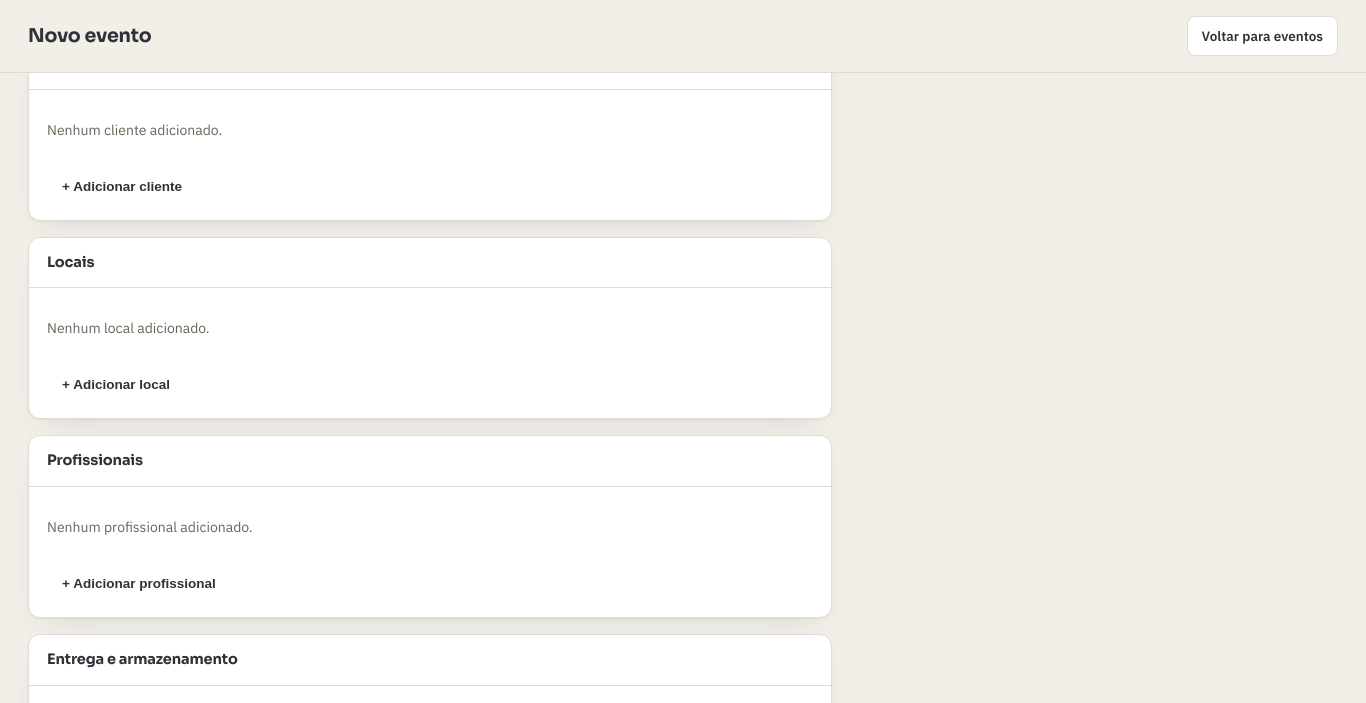
EventFormPage - vários locais por evento (GDE-51) › começa sem locais e permite adicionar e remover linhas
(page scrolled)
expect the text "Nenhum local adicionado." is shown: met, box x1=47 y1=319 x2=210 y2=337
Click the button "+ Adicionar local" at [116, 385], box x1=47 y1=367 x2=185 y2=402
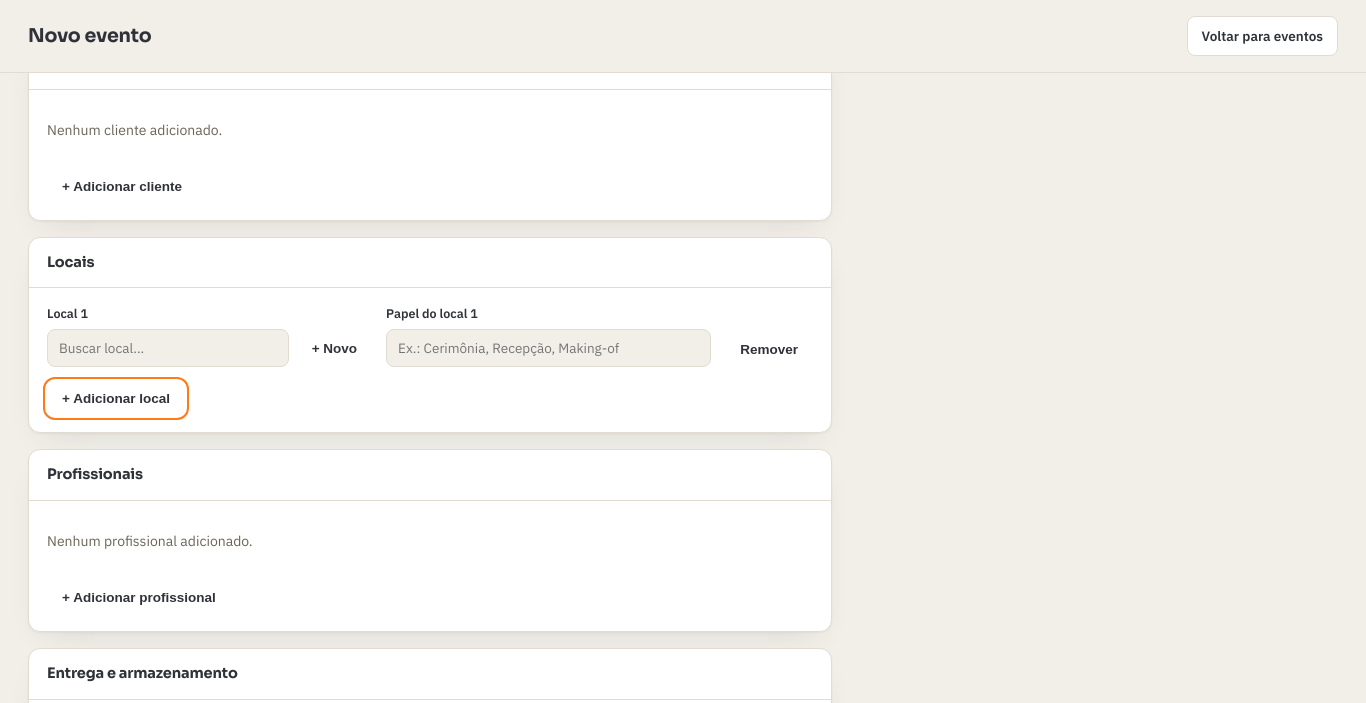
Click the button "+ Adicionar local" at [116, 398], box x1=47 y1=381 x2=185 y2=416
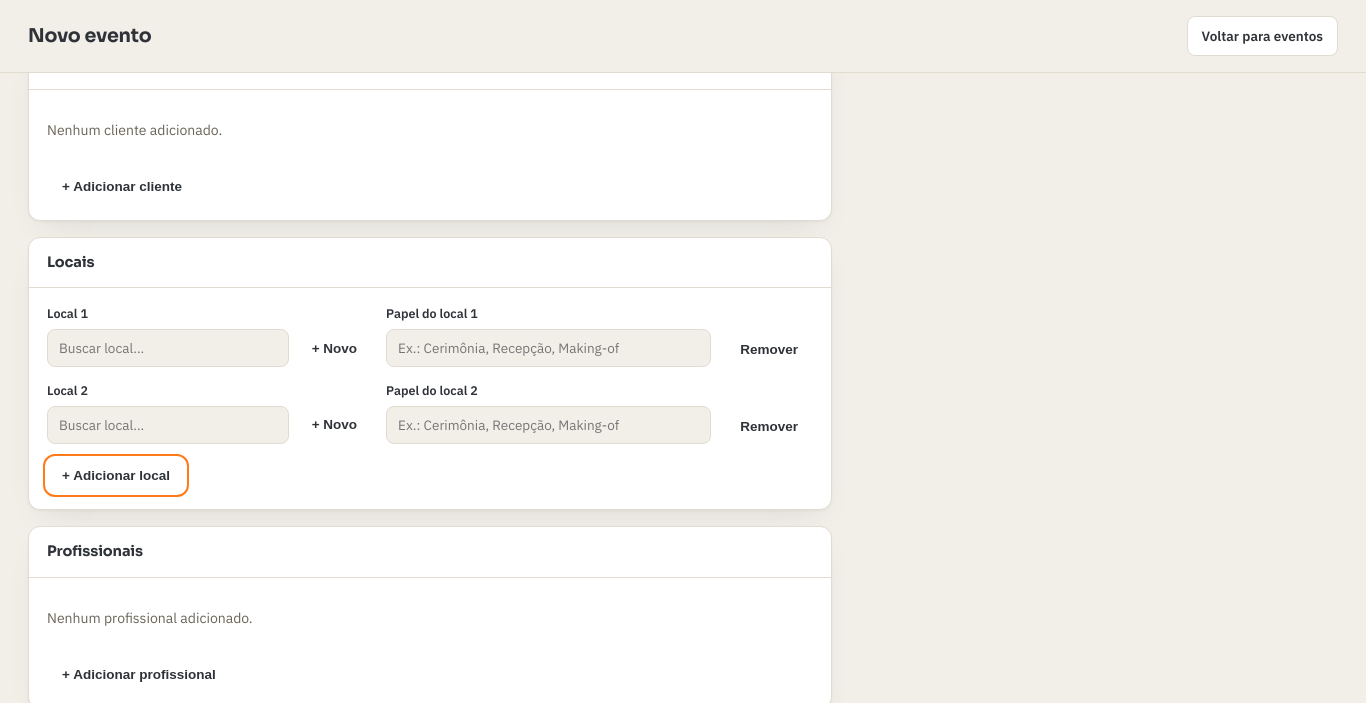
expect the dropdown labelled "Local 1" is shown: met, box x1=47 y1=329 x2=289 y2=367
expect the dropdown labelled "Local 2" is shown: met, box x1=47 y1=406 x2=289 y2=444
Click the button with aria-label "Remover local 2" at [769, 426], box x1=725 y1=409 x2=813 y2=444
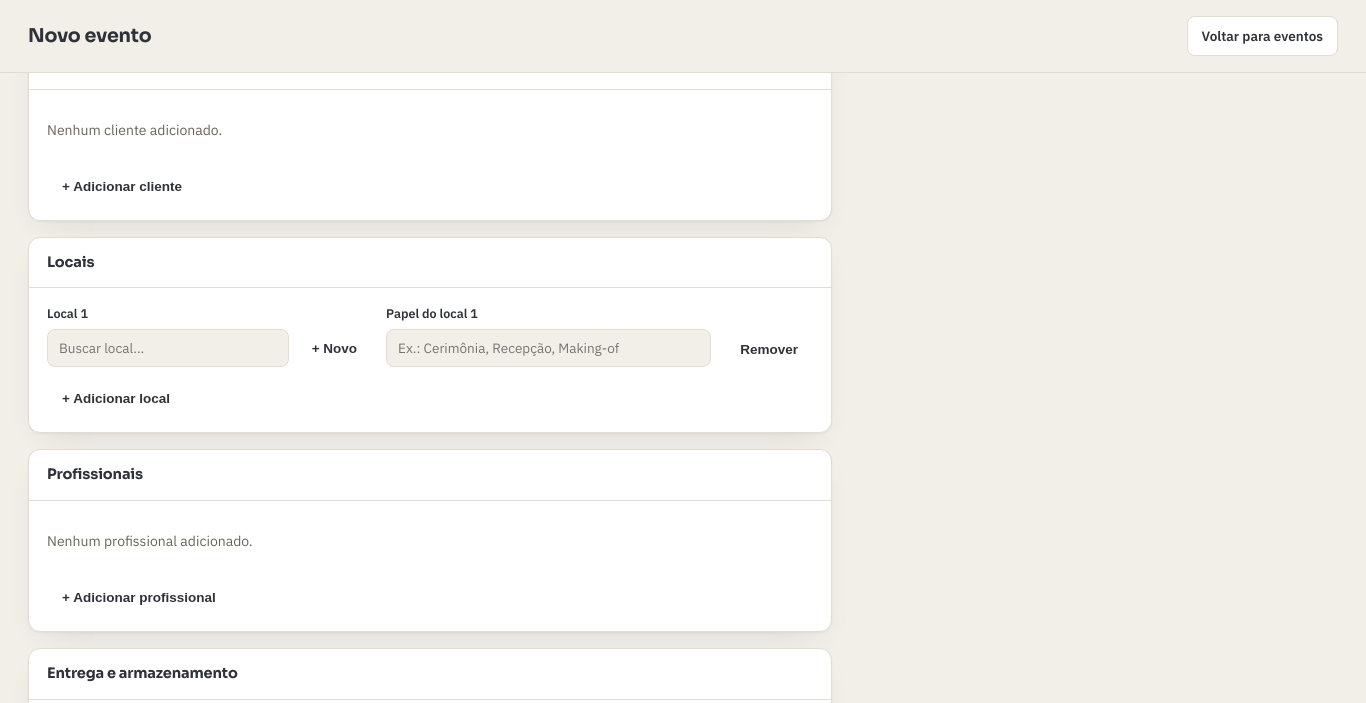
expect the label labelled "Local 2" is gone: met
Click the button with aria-label "Remover local 1" at [769, 350], box x1=725 y1=332 x2=813 y2=367
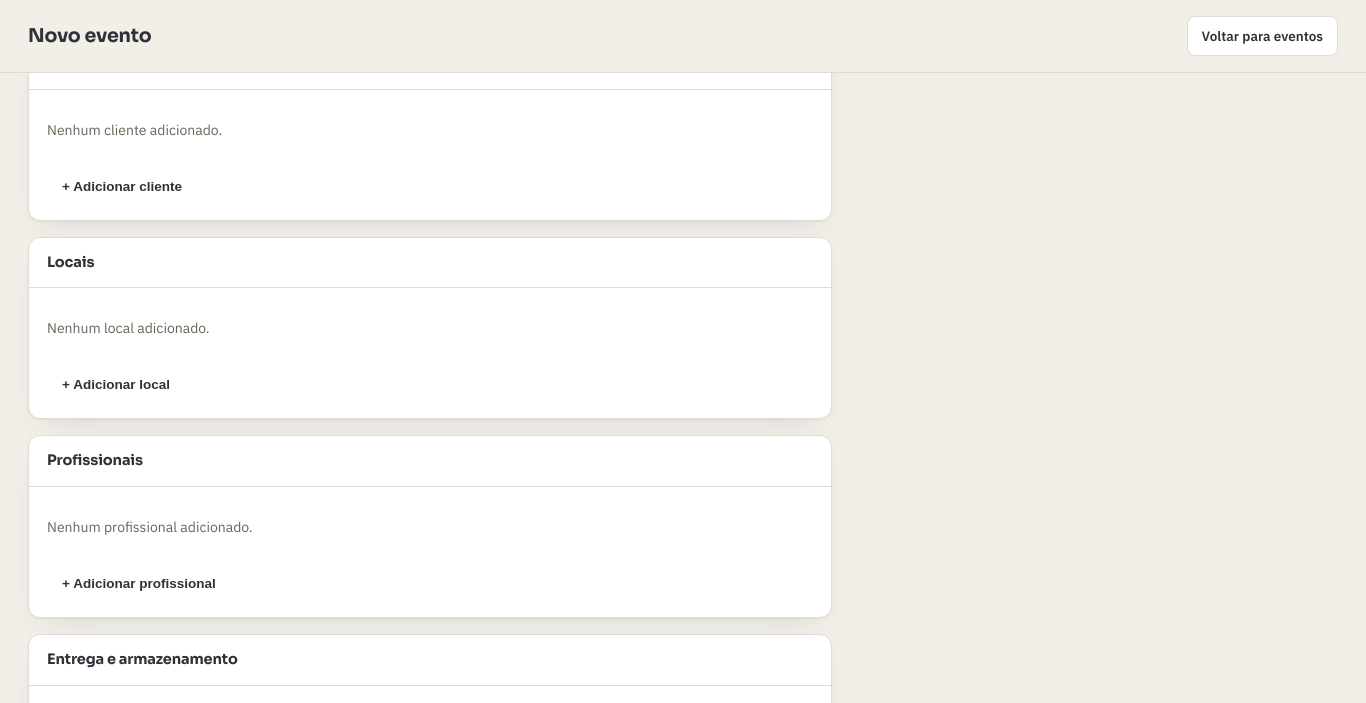
expect the text "Nenhum local adicionado." is shown: met, box x1=47 y1=319 x2=210 y2=337
